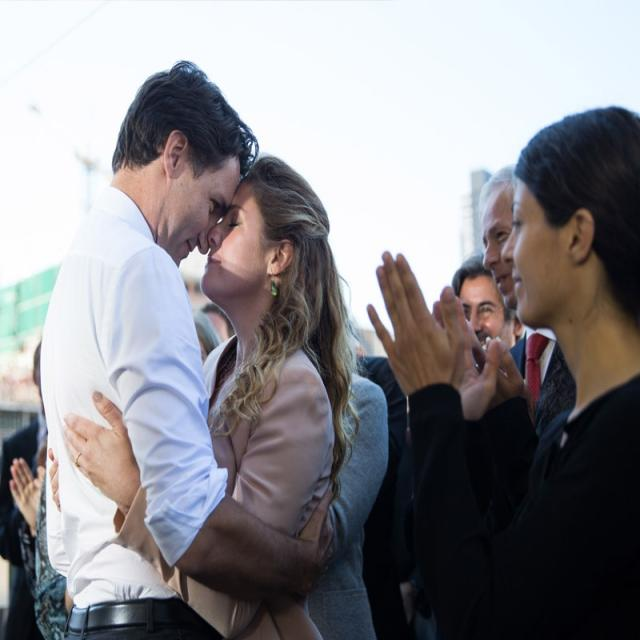body: (39, 54, 338, 640), (360, 91, 639, 639), (47, 153, 350, 640), (429, 160, 576, 441), (317, 303, 408, 640), (0, 270, 71, 640), (450, 248, 523, 350), (190, 298, 238, 368)
